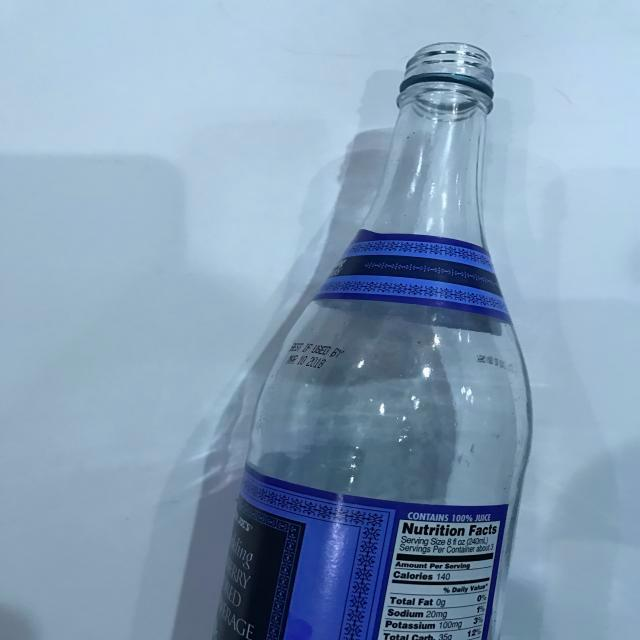glass: (210, 25, 557, 640)
